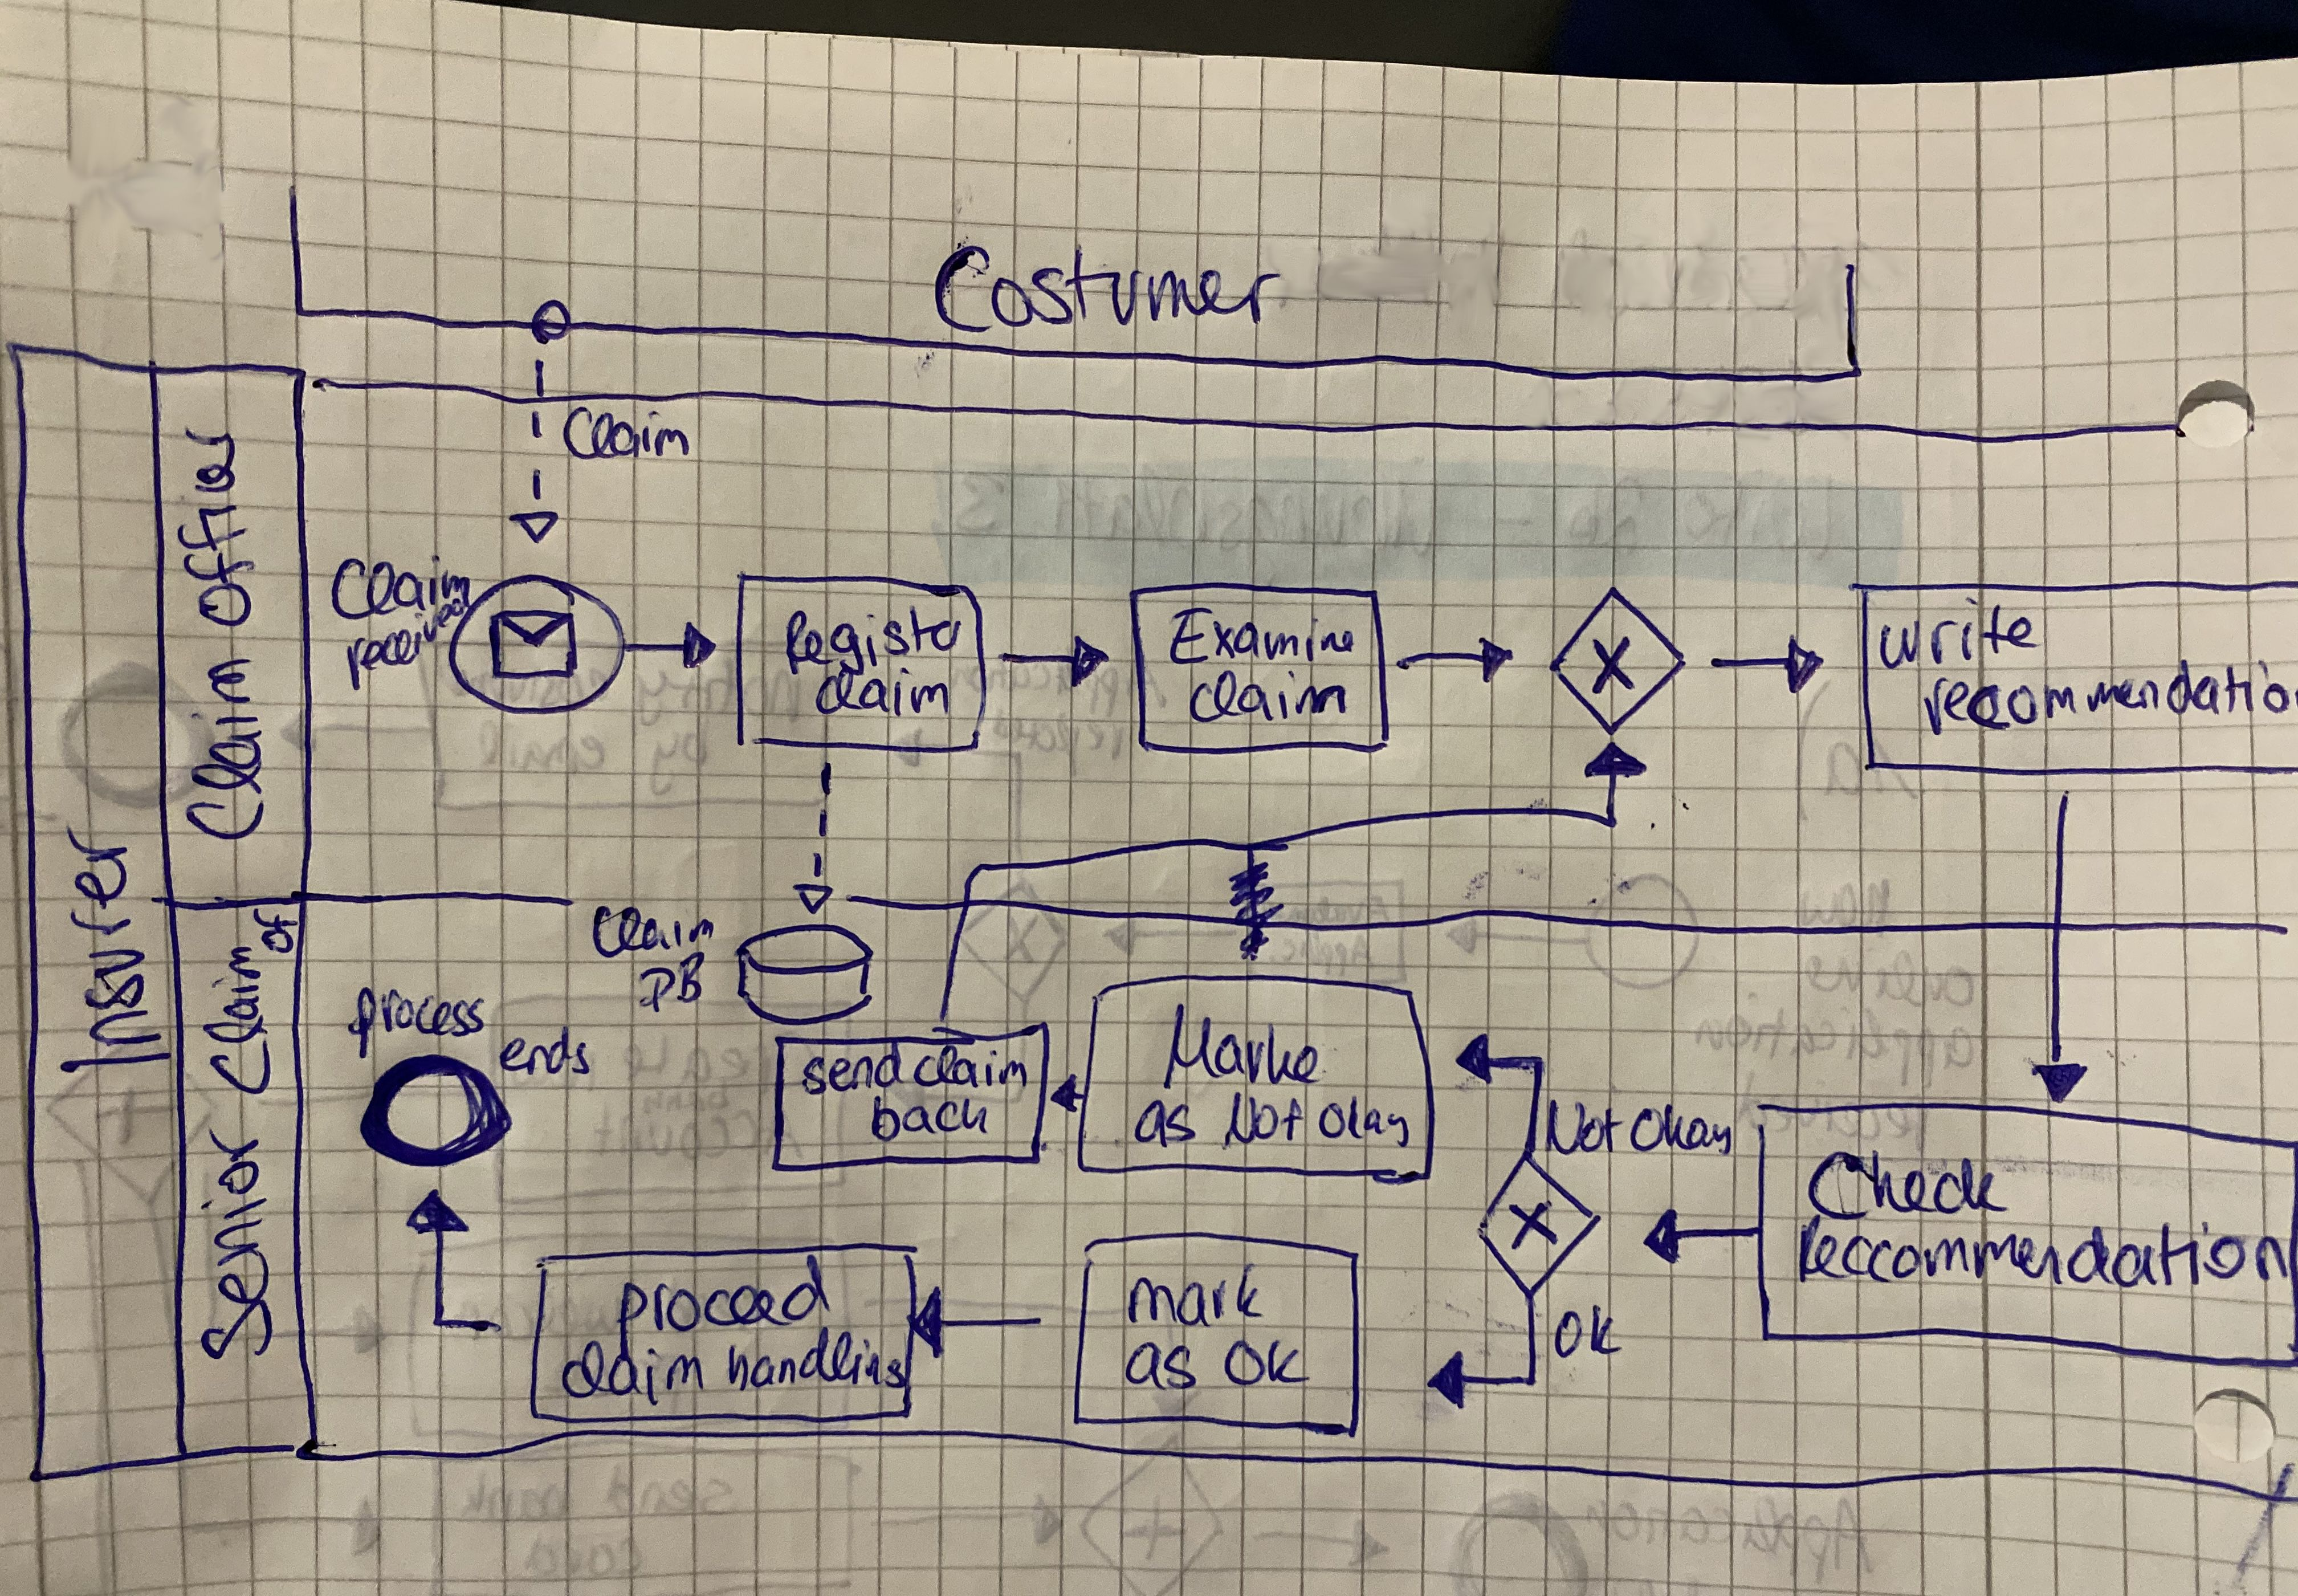Check: (1799, 1142, 2017, 1228)
Claim: (178, 646, 274, 849), (196, 938, 279, 1104), (323, 547, 480, 627), (555, 398, 695, 466), (583, 899, 719, 964)
Costumer: (922, 236, 1290, 341)
DB: (630, 945, 712, 1018)
Examine: (1163, 601, 1362, 672)
Insurer: (49, 810, 183, 1083)
Marke: (1156, 997, 1327, 1095)
Not: (1538, 1091, 1631, 1163), (1217, 1086, 1311, 1156)
OK: (1217, 1332, 1317, 1392)
Ok: (1545, 1296, 1629, 1366)
Okay: (1622, 1097, 1739, 1165), (1313, 1088, 1416, 1154)
Reccommendation: (1788, 1203, 2296, 1296)
Register: (781, 599, 967, 681)
Senior: (190, 1119, 281, 1369)
as: (1118, 1336, 1201, 1395), (1128, 1093, 1201, 1154)
back: (864, 1088, 994, 1147)
claim: (555, 1334, 711, 1414), (1182, 665, 1352, 730), (807, 662, 957, 725), (906, 1039, 1034, 1095)
ends: (492, 1020, 595, 1081)
handling: (721, 1320, 917, 1397)
mark: (1119, 1254, 1268, 1334)
of: (248, 901, 304, 959)
officer: (168, 416, 262, 634)
proceed: (608, 1249, 838, 1366)
process: (342, 978, 491, 1067)
received: (341, 581, 480, 697)
recommendation: (1914, 651, 2296, 746)
send: (796, 1034, 910, 1100)
write: (1870, 592, 2048, 678)
